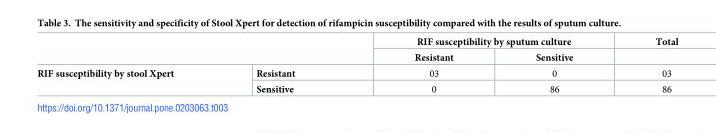table: (36, 36, 677, 93)
table column: (36, 36, 214, 93), (214, 36, 354, 93), (354, 36, 493, 93), (493, 36, 613, 93), (613, 36, 677, 93)
table column header: (36, 36, 677, 65)
table row: (36, 49, 677, 65), (36, 65, 677, 81), (36, 36, 677, 49), (36, 81, 677, 93)
table spanning cell: (36, 65, 214, 93), (354, 36, 613, 49), (613, 36, 677, 65)
